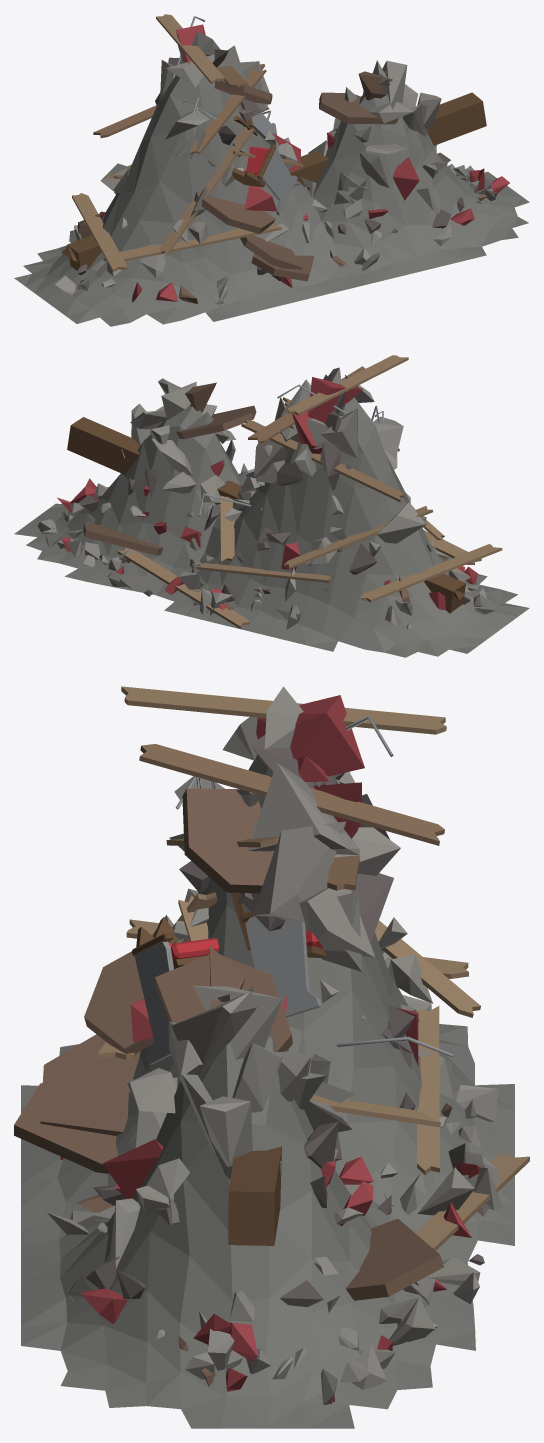
The model's file is rubble_heap_c.glb.
The picture shows the model from 3 angles, top to bottom: view 1: azimuth 30°, elevation 25°; view 2: azimuth 150°, elevation 25°; view 3: azimuth 270°, elevation 25°; orthographic projection. The views are drawn at different scales.
Visible parts, largest first — view 1: concrete_dark__rubble_heap_c__solid, concrete__rubble_heap_c__solid, ceiling_theater__rubble_heap_c__solid, plank__rubble_heap_c__solid, dark_wood__rubble_heap_c__solid, wall_theater__rubble_heap_c__solid, wood__rubble_heap_c__solid, steel__rubble_heap_c__solid, stone__rubble_heap_c__solid, velvet__rubble_heap_c__solid; view 2: concrete_dark__rubble_heap_c__solid, concrete__rubble_heap_c__solid, plank__rubble_heap_c__solid, dark_wood__rubble_heap_c__solid, stone__rubble_heap_c__solid, wall_theater__rubble_heap_c__solid, ceiling_theater__rubble_heap_c__solid, wood__rubble_heap_c__solid, steel__rubble_heap_c__solid; view 3: concrete_dark__rubble_heap_c__solid, concrete__rubble_heap_c__solid, ceiling_theater__rubble_heap_c__solid, plank__rubble_heap_c__solid, wall_theater__rubble_heap_c__solid, stone__rubble_heap_c__solid, steel__rubble_heap_c__solid, wood__rubble_heap_c__solid, dark_wood__rubble_heap_c__solid, velvet__rubble_heap_c__solid.
Part boxes in pixels (left/top/right/bottom): concrete_dark__rubble_heap_c__solid: left=14, top=75, right=529, bottom=326; concrete__rubble_heap_c__solid: left=55, top=31, right=495, bottom=304; ceiling_theater__rubble_heap_c__solid: left=77, top=71, right=497, bottom=303; plank__rubble_heap_c__solid: left=72, top=14, right=303, bottom=271; dark_wood__rubble_heap_c__solid: left=61, top=92, right=486, bottom=270; wall_theater__rubble_heap_c__solid: left=99, top=24, right=509, bottom=302; wood__rubble_heap_c__solid: left=93, top=61, right=266, bottom=154; steel__rubble_heap_c__solid: left=172, top=16, right=297, bottom=215; stone__rubble_heap_c__solid: left=77, top=45, right=464, bottom=289; velvet__rubble_heap_c__solid: left=243, top=146, right=269, bottom=175; concrete_dark__rubble_heap_c__solid: left=14, top=397, right=529, bottom=657; concrete__rubble_heap_c__solid: left=38, top=367, right=494, bottom=629; plank__rubble_heap_c__solid: left=117, top=355, right=502, bottom=628; dark_wood__rubble_heap_c__solid: left=67, top=417, right=465, bottom=613; stone__rubble_heap_c__solid: left=78, top=374, right=483, bottom=606; wall_theater__rubble_heap_c__solid: left=42, top=377, right=477, bottom=610; ceiling_theater__rubble_heap_c__solid: left=83, top=382, right=447, bottom=609; wood__rubble_heap_c__solid: left=241, top=366, right=404, bottom=501; steel__rubble_heap_c__solid: left=198, top=384, right=384, bottom=516; concrete_dark__rubble_heap_c__solid: left=21, top=754, right=514, bottom=1428; concrete__rubble_heap_c__solid: left=47, top=686, right=501, bottom=1404; ceiling_theater__rubble_heap_c__solid: left=14, top=788, right=452, bottom=1386; plank__rubble_heap_c__solid: left=97, top=686, right=529, bottom=1250; wall_theater__rubble_heap_c__solid: left=60, top=695, right=480, bottom=1401; stone__rubble_heap_c__solid: left=86, top=735, right=489, bottom=1306; steel__rubble_heap_c__solid: left=135, top=715, right=452, bottom=1064; wood__rubble_heap_c__solid: left=139, top=744, right=444, bottom=890; dark_wood__rubble_heap_c__solid: left=132, top=892, right=326, bottom=1245; velvet__rubble_heap_c__solid: left=168, top=930, right=323, bottom=962.
Bounding box in the file's own units: 6 × 2.9 × 2.95.
